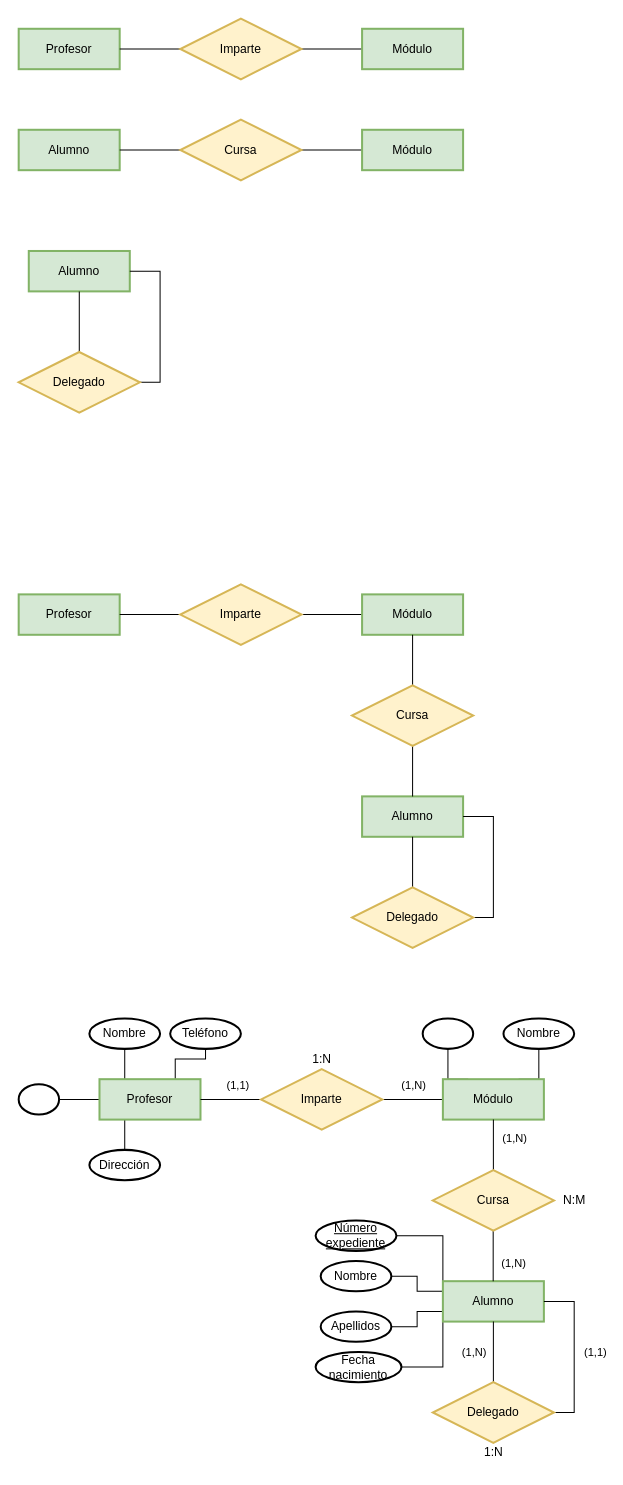
Some shapes in this 623 by 1485 pixel diagram are drawn without their labels. The centre of each missing label's shape, as x and y in pixels:
Código: (447,1033)
DNI: (38,1099)
